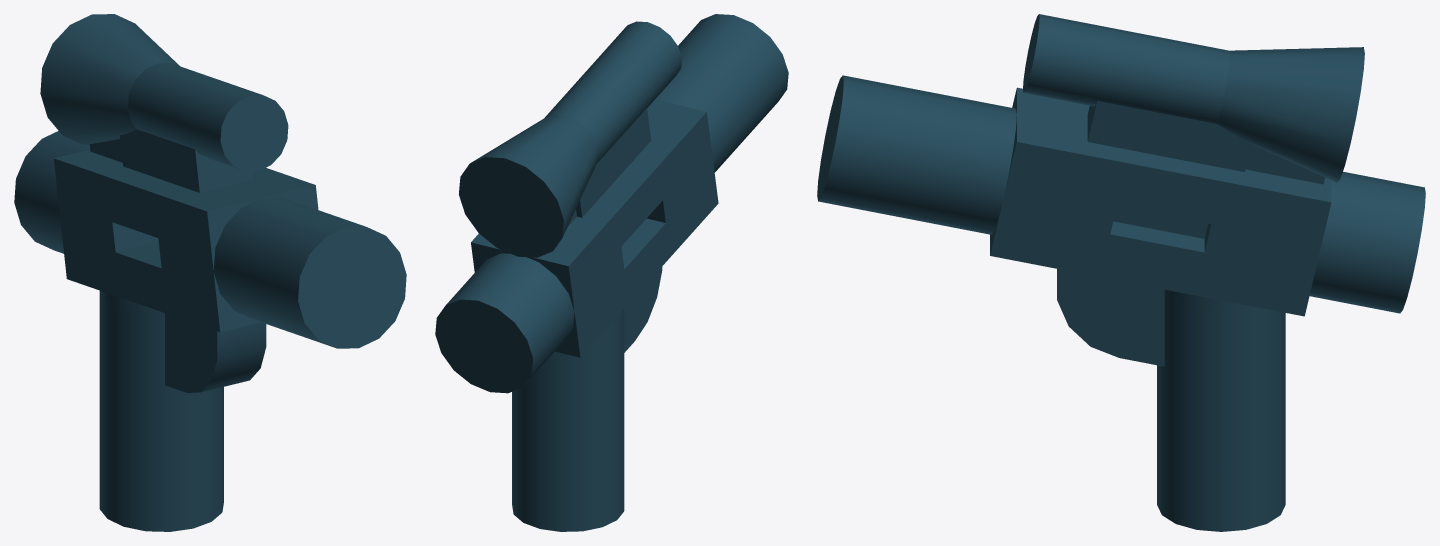
File: Pistol (sights).dae
3 views of the same model, side by side, from view 1: azimuth 30°, elevation 25°; view 2: azimuth 150°, elevation 25°; view 3: azimuth 270°, elevation 25° (orthographic). The views are drawn at different scales.
Parts seen in each view (by area): view 1: Object; view 2: Object; view 3: Object.
Part boxes in pixels (x1,y1,x2,y2): Object: (14,14,406,531); Object: (435,14,788,531); Object: (817,14,1425,531).
Bounding box in the file's own units: 3.44 × 15.14 × 13.37.
